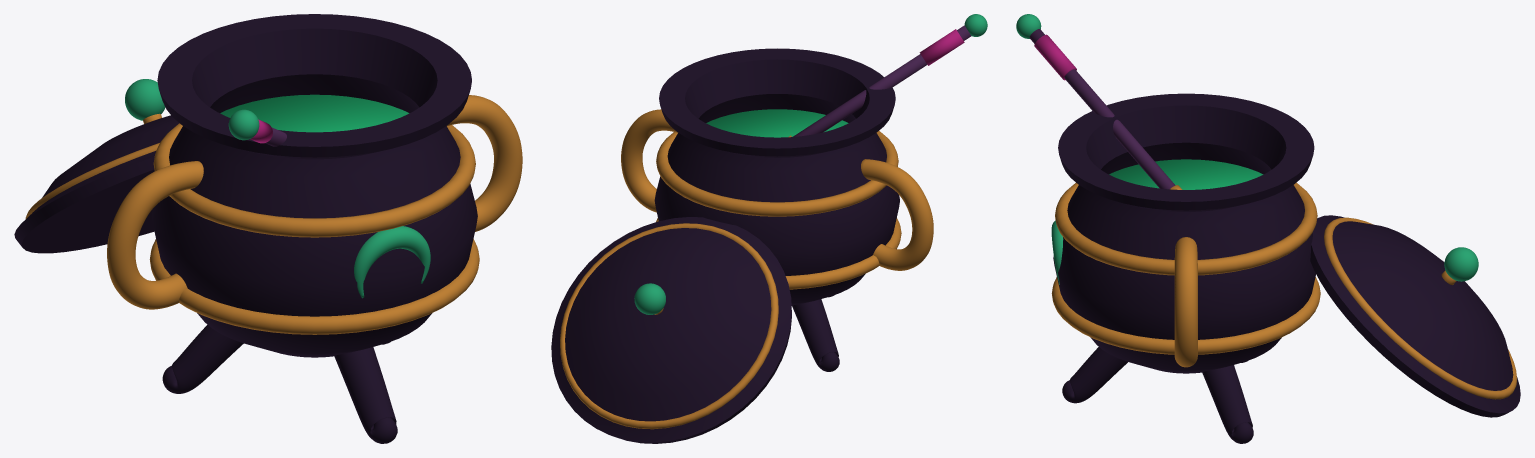
Rendered from a-whimsical-moon-market-potion-cauldron-as-a.fbx.
3 renders of one model, left to right at view 1: azimuth 30°, elevation 25°; view 2: azimuth 150°, elevation 25°; view 3: azimuth 270°, elevation 25°, orthographic. The views are drawn at different scales.
Parts seen in each view (by area): view 1: CauldronBody, lid, right_handle, left_handle, stirring_paddle; view 2: CauldronBody, lid, right_handle, stirring_paddle, left_handle; view 3: CauldronBody, lid, stirring_paddle, left_handle.
Boxes of the visible parts, x1=… form: CauldronBody: x1=149, y1=14, x2=479, y2=443; lid: x1=14, y1=79, x2=179, y2=253; right_handle: x1=107, y1=161, x2=203, y2=309; left_handle: x1=447, y1=95, x2=522, y2=231; stirring_paddle: x1=228, y1=109, x2=286, y2=146; CauldronBody: x1=654, y1=48, x2=901, y2=371; lid: x1=551, y1=217, x2=791, y2=443; right_handle: x1=861, y1=159, x2=933, y2=270; stirring_paddle: x1=788, y1=14, x2=987, y2=137; left_handle: x1=621, y1=109, x2=677, y2=212; CauldronBody: x1=1051, y1=93, x2=1320, y2=443; lid: x1=1310, y1=215, x2=1520, y2=417; stirring_paddle: x1=1016, y1=14, x2=1182, y2=189; left_handle: x1=1174, y1=237, x2=1197, y2=367.
Bounding box in the file's own units: 135 × 123 × 175.
6 materials, 6 textured.
